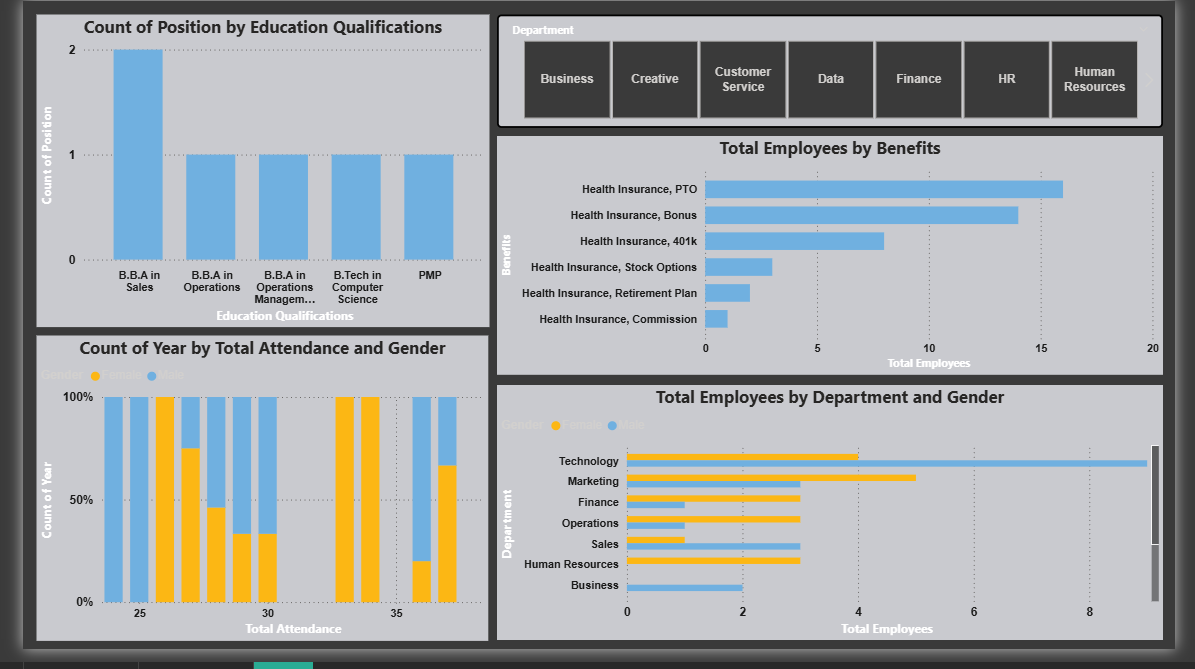

The dashboard page shown, as its layout file describes it:
{"tool":"powerbi","page":{"name":"Page 3","canvas":[1280,720],"ordinal":2},"visuals":[{"type":"hundredPercentStackedColumnChart","fields":{"Category":["EMP Attendance.Total Attendance"],"Y":["CountNonNull(EMP Attendance.Year)"],"Series":["All_3yrs.Gender"]},"box":[14.6,370.9,502,339],"z":0},{"type":"clusteredBarChart","fields":{"Category":["All_3yrs.Department"],"Series":["All_3yrs.Gender"],"Y":["All_3yrs.Total Employees"]},"box":[527,426.2,740.1,283],"z":1000},{"type":"columnChart","fields":{"Y":["CountNonNull(All_3yrs.Position)"],"Category":["All_3yrs.Education Qualifications"]},"box":[14.6,14.6,503,347],"z":2000},{"type":"barChart","fields":{"Category":["All_3yrs.Benefits"],"Y":["All_3yrs.Total Employees"]},"box":[527,149.6,740,265],"z":3000},{"type":"slicer","fields":{"Values":["All_3yrs.Department"]},"box":[527,14.6,740,126],"z":4000}]}

Visuals, with their boxes in screenshot pixels (x1, y1, x2, y2), scaled from the page's 1280x720 canvas onto the 1195x669 screenshot:
hundredPercentStackedColumnChart - EMP Attendance.Total Attendance x CountNonNull(EMP Attendance.Year): detection(14, 345, 482, 660)
clusteredBarChart - All_3yrs.Department x All_3yrs.Gender: detection(492, 396, 1183, 659)
columnChart - CountNonNull(All_3yrs.Position) x All_3yrs.Education Qualifications: detection(14, 14, 483, 336)
barChart - All_3yrs.Benefits x All_3yrs.Total Employees: detection(492, 139, 1183, 385)
slicer - All_3yrs.Department: detection(492, 14, 1183, 131)
